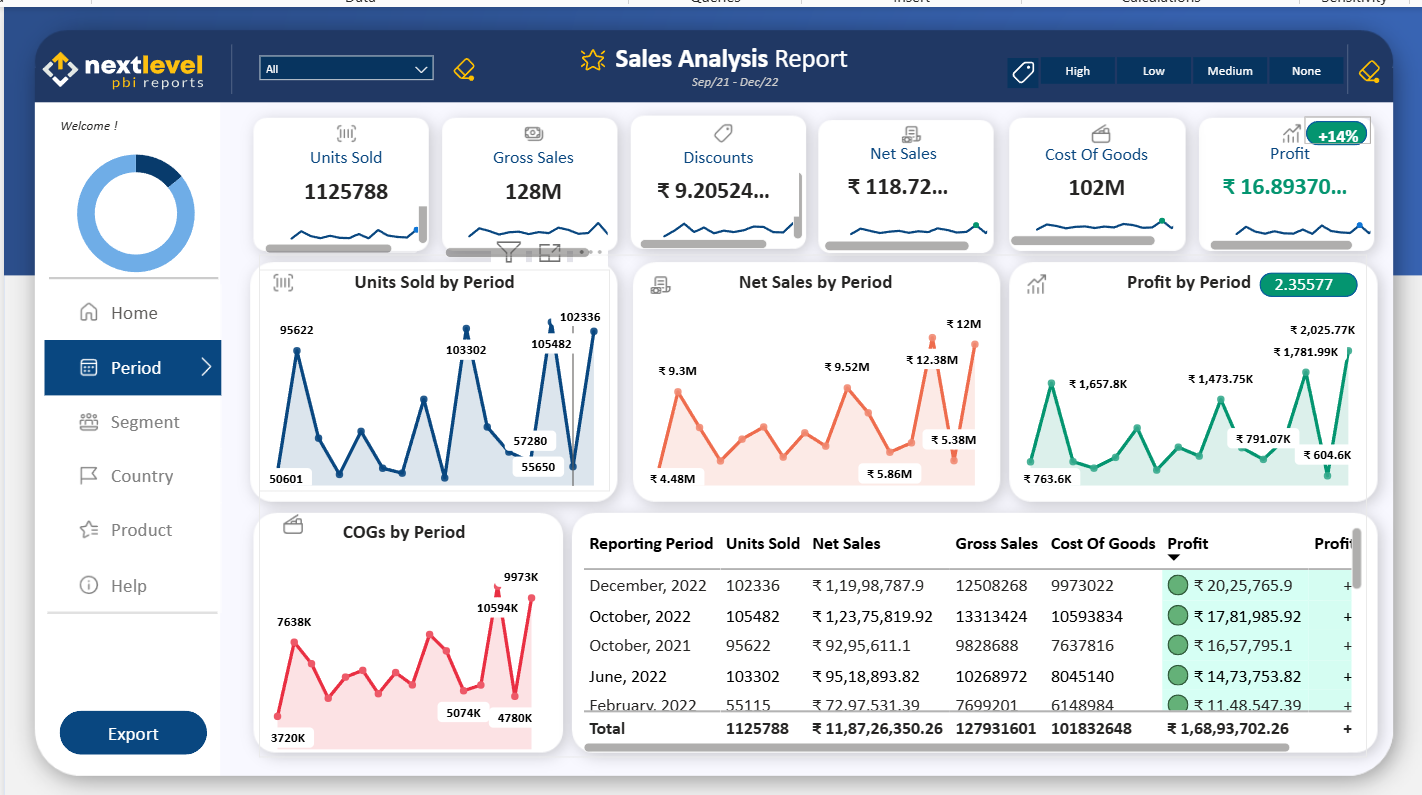

The page's visual inventory and layout, read from the dashboard file:
{"tool":"powerbi","page":{"name":"Units Sold","canvas":[1280,720],"ordinal":3},"visuals":[{"type":"actionButton","title":"Button_LOGO","box":[33.6,34.8,149.8,38.2],"z":0,"group":"g2"},{"type":"group","id":"g1","title":"Navigation","box":[22.9,85,169.7,599.6],"z":0},{"type":"pivotTable","title":"Matrix_unitssold","fields":{"Values":["SparklineData(Measures (2).M_Units Sold_[DIM_DATE.YearMonth])"]},"box":[22.9,133.6,162.6,80.9],"z":0,"group":"g4"},{"type":"actionButton","title":"Button_Period_Active","box":[32.5,289.1,160.1,52.6],"z":0,"group":"g3"},{"type":"shape","title":"Shape_line_bottom","box":[34.7,532.5,153.8,33.2],"z":0,"group":"g1"},{"type":"slicer","title":"Slicer_Manager","fields":{"Values":["DIM_MANAGERS.Manager Name"]},"box":[219.8,30.7,176.7,46.3],"z":1000,"group":"g2"},{"type":"areaChart","title":"Units Sold by Period","fields":{"Category":["DIM_DATE.Reporting Period"],"Y":["Measures (2).M_Units Sold"]},"box":[214.5,103.8,473.9,256],"z":1000},{"type":"cardVisual","title":"Card_unitssold","fields":{"Data":["Measures (2).M_Units Sold"]},"box":[22.9,106.2,162.6,65],"z":1000,"group":"g4"},{"type":"actionButton","box":[161.4,288.3,28.7,53.2],"z":1000,"group":"g3"},{"type":"actionButton","title":"Button_export","box":[46.1,642.5,133.7,42.1],"z":1000,"group":"g1"},{"type":"actionButton","title":"Button_Clear","box":[396.5,40.6,37.4,24.8],"z":2000,"group":"g2"},{"type":"actionButton","title":"Button_unitssold","box":[86.6,85,34,28.5],"z":2000,"group":"g4"},{"type":"barChart","title":"Units Sold by Segment","fields":{"Category":["FACT_SALES.Segment"],"Y":["Measures (2).M_Units Sold"]},"box":[749.7,102.9,469.9,257.3],"z":2000},{"type":"shape","title":"Shape_line_up","box":[33.4,219.6,152.2,34.6],"z":2000,"group":"g1"},{"type":"actionButton","title":"Button_Title_Icon","box":[498.4,24.1,64.6,41.3],"z":3000,"group":"g2"},{"type":"barChart","title":"Units Sold by Country","fields":{"Category":["FACT_SALES.Country small name"],"Y":["Measures (2).M_Units Sold"]},"box":[205.9,398.3,483.4,255.1],"z":3000},{"type":"actionButton","title":"Button_Help","box":[32.1,496.2,160.5,52.6],"z":3000,"group":"g1"},{"type":"textbox","box":[546,22.4,242.9,41.3],"z":4000,"group":"g2"},{"type":"barChart","title":"Units Sold by Product","fields":{"Category":["FACT_SALES.Product"],"Y":["Measures (2).M_Units Sold"]},"box":[745.2,398.3,474.4,255.1],"z":4000},{"type":"group","id":"g2","title":"Header","box":[33.6,22.4,1217.3,69.4],"z":5000},{"type":"cardVisual","title":"Card_Date_Range","fields":{"Data":["Measures (2).M_Date Selection"]},"box":[602,30.7,132.5,59.5],"z":5000,"group":"g2"},{"type":"actionButton","title":"Button_Product","box":[32.1,444.4,160.5,52.6],"z":5000,"group":"g1"},{"type":"actionButton","box":[0,0,100,40],"z":6000},{"type":"actionButton","title":"Button_DiscountsIcon","box":[904.4,42.8,27.9,27.1],"z":6000,"group":"g2"},{"type":"slicer","title":"Slicer_Discounts","fields":{"Values":["FACT_SALES.Discount Band"]},"box":[907.8,34,322.8,38],"z":7000,"group":"g2"},{"type":"actionButton","title":"Button_Country","box":[32.1,392.6,160.5,52.6],"z":7000,"group":"g1"},{"type":"actionButton","title":"Button_Clear_Discounts","box":[1189.1,26.8,60.5,55.4],"z":8000,"group":"g2"},{"type":"shape","title":"Shape_Divider_R","box":[163.8,30.7,83.2,44.6],"z":9000,"group":"g2"},{"type":"actionButton","title":"Button_segment","box":[32.1,340.9,160.5,52.6],"z":9000,"group":"g1"},{"type":"shape","title":"Shape_Divider_L","box":[1170.1,26.8,43.2,48.4],"z":10000,"group":"g2"},{"type":"group","id":"g3","title":"Button_Period_Active","box":[32.5,288.3,160.1,53.5],"z":10000,"group":"g1"},{"type":"actionButton","title":"Button_Home","box":[32.1,237.3,160.5,52.6],"z":12000,"group":"g1"},{"type":"group","id":"g4","title":"unitsold_info","box":[22.9,85,162.6,148.8],"z":12500,"group":"g1"}]}

Visuals, with their boxes on the page's 1280x720 design canvas (x1, y1, x2, y2). These are canvas units, not pixel positions in the 1422x795 screenshot, which may show the page scaled, cropped or inside an application window:
"Button_LOGO" actionButton: 34 35 183 73
"Navigation" group: 23 85 193 685
"Matrix_unitssold" pivotTable: 23 134 186 214
"Button_Period_Active" actionButton: 32 289 193 342
"Shape_line_bottom" shape: 35 532 188 566
"Slicer_Manager" slicer: 220 31 396 77
"Units Sold by Period" areaChart: 214 104 688 360
"Card_unitssold" cardVisual: 23 106 186 171
actionButton: 161 288 190 342
"Button_export" actionButton: 46 642 180 685
"Button_Clear" actionButton: 396 41 434 65
"Button_unitssold" actionButton: 87 85 121 114
"Units Sold by Segment" barChart: 750 103 1220 360
"Shape_line_up" shape: 33 220 186 254
"Button_Title_Icon" actionButton: 498 24 563 65
"Units Sold by Country" barChart: 206 398 689 653
"Button_Help" actionButton: 32 496 193 549
textbox: 546 22 789 64
"Units Sold by Product" barChart: 745 398 1220 653
"Header" group: 34 22 1251 92
"Card_Date_Range" cardVisual: 602 31 734 90
"Button_Product" actionButton: 32 444 193 497
actionButton: 0 0 100 40
"Button_DiscountsIcon" actionButton: 904 43 932 70
"Slicer_Discounts" slicer: 908 34 1231 72
"Button_Country" actionButton: 32 393 193 445
"Button_Clear_Discounts" actionButton: 1189 27 1250 82
"Shape_Divider_R" shape: 164 31 247 75
"Button_segment" actionButton: 32 341 193 394
"Shape_Divider_L" shape: 1170 27 1213 75
"Button_Period_Active" group: 32 288 193 342
"Button_Home" actionButton: 32 237 193 290
"unitsold_info" group: 23 85 186 234
